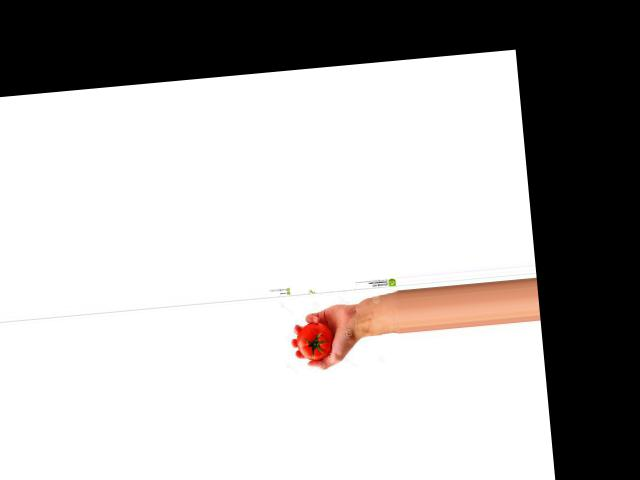tomato: (295, 320, 334, 361)
